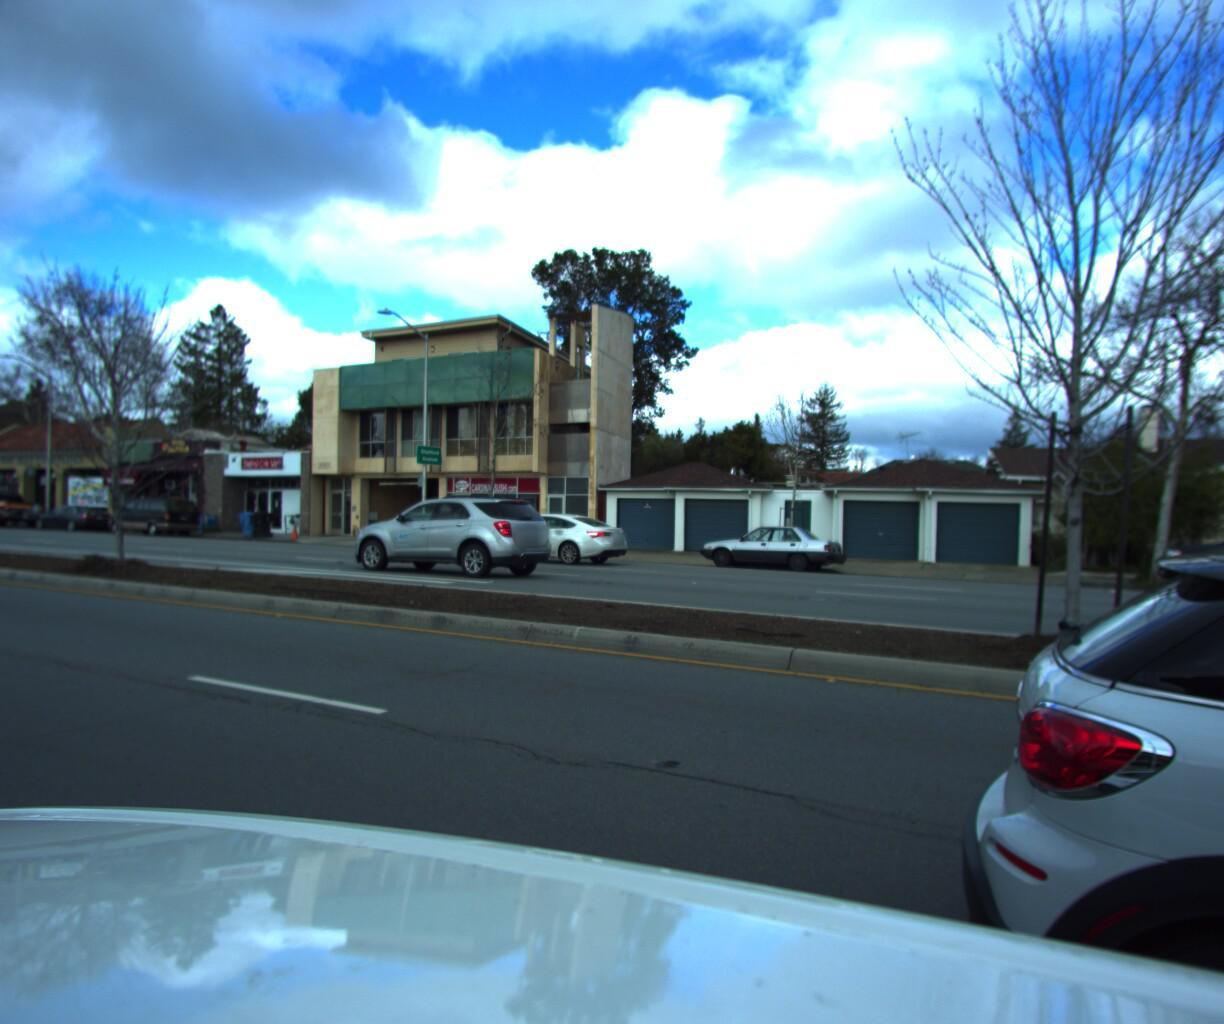car: (904, 491, 1224, 1024), (342, 492, 563, 578), (465, 507, 633, 564), (687, 518, 850, 573), (1147, 513, 1224, 603), (99, 491, 202, 533), (0, 467, 46, 525), (23, 499, 115, 528)
